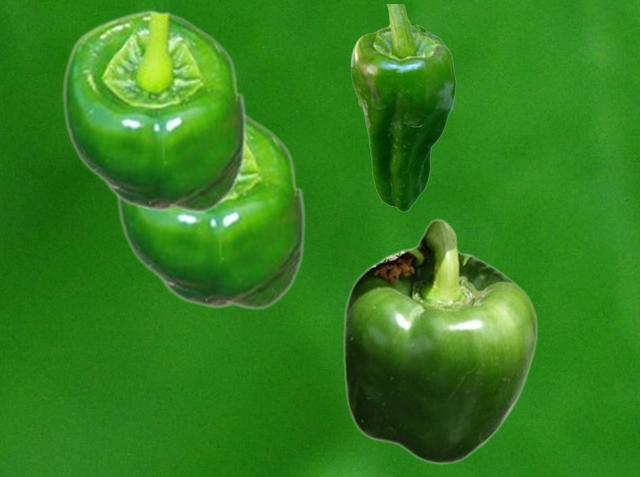bell_pepper: (342, 218, 537, 464), (61, 9, 246, 212), (115, 112, 305, 309), (350, 4, 455, 211)
